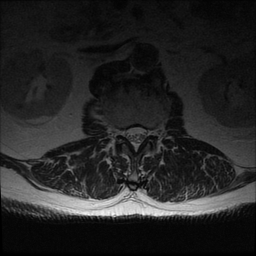CCS_normal: (132, 119, 139, 157)
LFS_stenosis: (148, 122, 155, 142)
LLS_normal: (140, 121, 147, 146)
RFS_stenosis: (117, 123, 125, 142)
RLS_normal: (125, 122, 132, 146)
